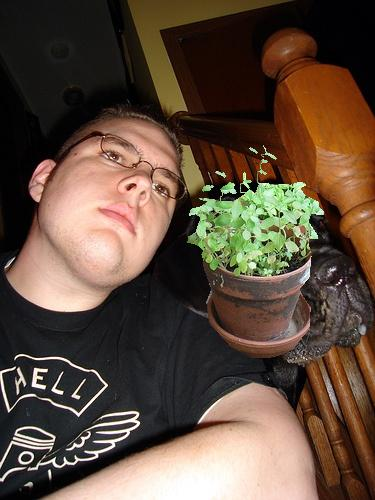tampered: (188, 146, 324, 358)
